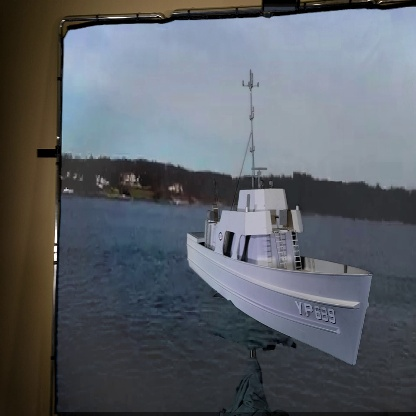YP689: (185, 68, 373, 367)
